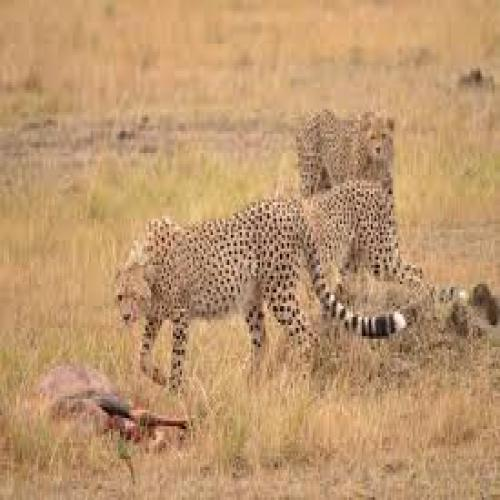cheetah-endangered: (114, 193, 409, 396), (294, 176, 419, 300), (291, 109, 398, 216)
